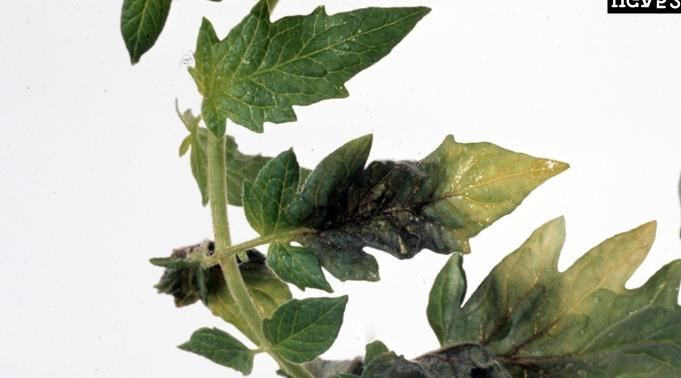Tomato leaf late blight: (247, 125, 575, 285), (158, 0, 446, 148), (427, 219, 681, 378)
